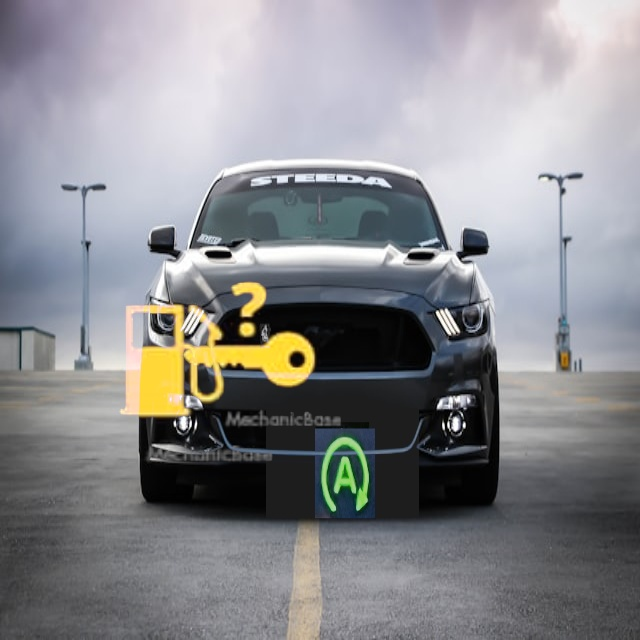symbol: (61, 252, 281, 472), (147, 234, 349, 436), (266, 395, 419, 548)
